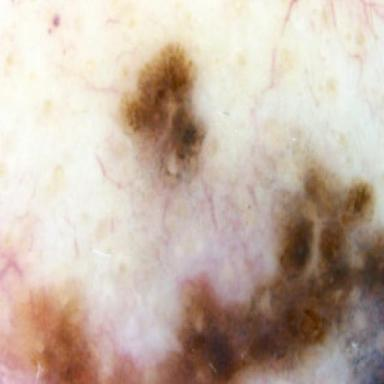Melanoma: (0, 158, 384, 384), (121, 43, 209, 186)
